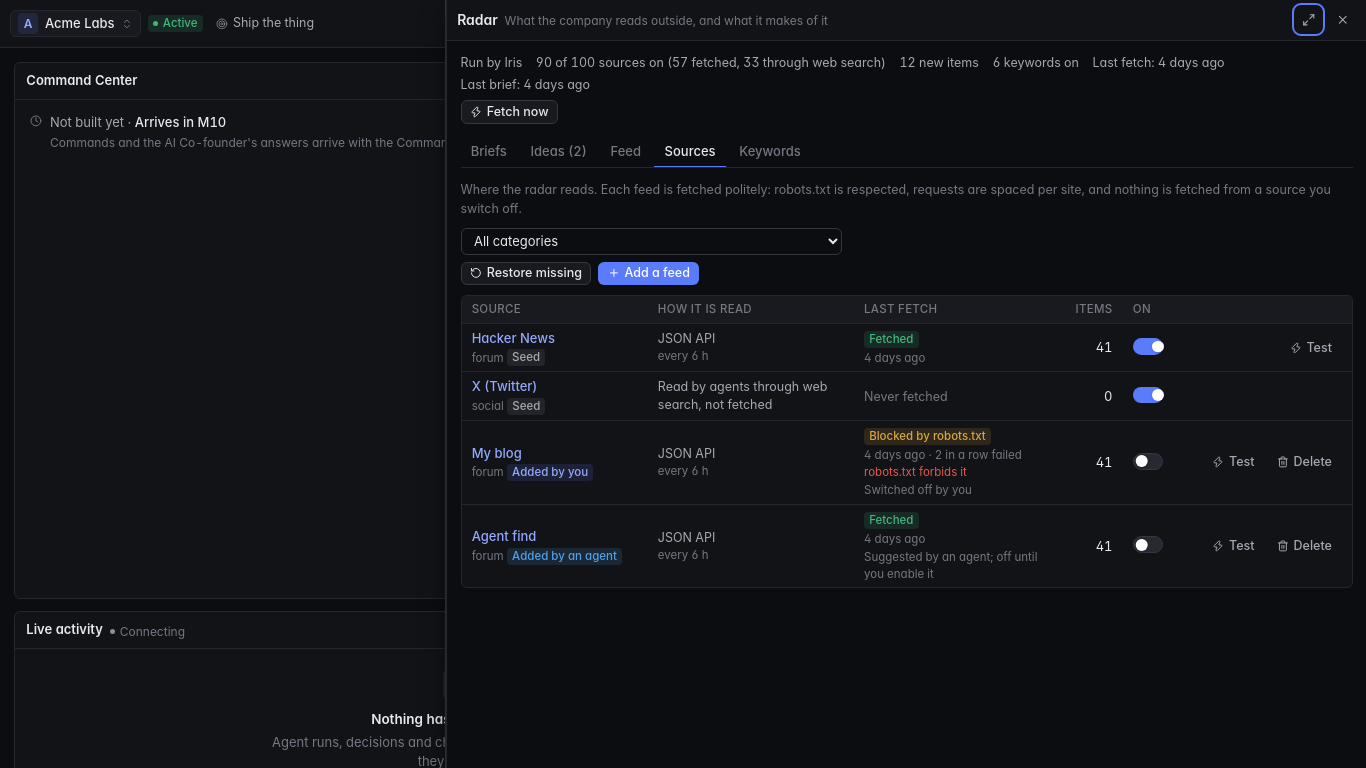
Test: Radar panel: sources › says so when the test fetch is rate limited
Click the button with aria-label "Test Hacker News": click(1311, 348) [1280, 336, 1341, 359]
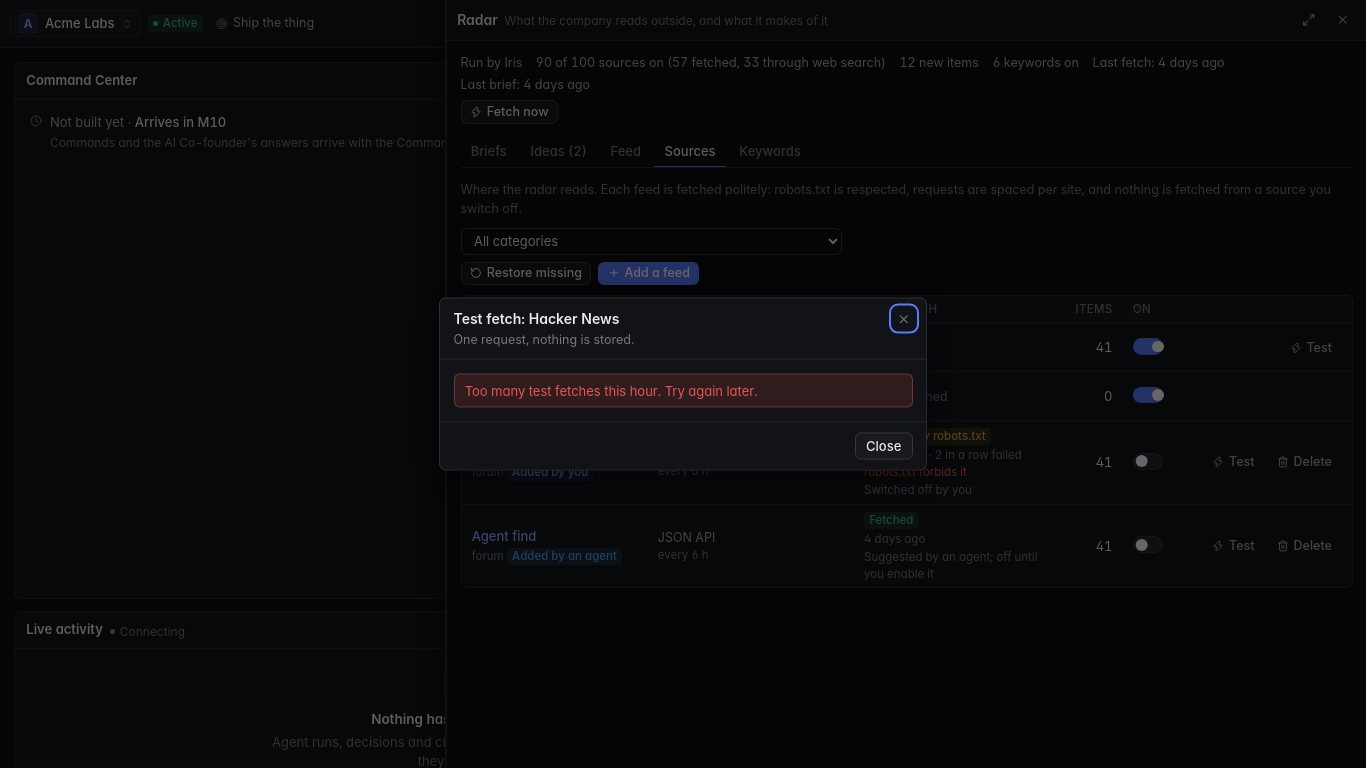
Now the text "Too many test fetches this hour. Try again later." is shown, box [454, 373, 912, 408]
